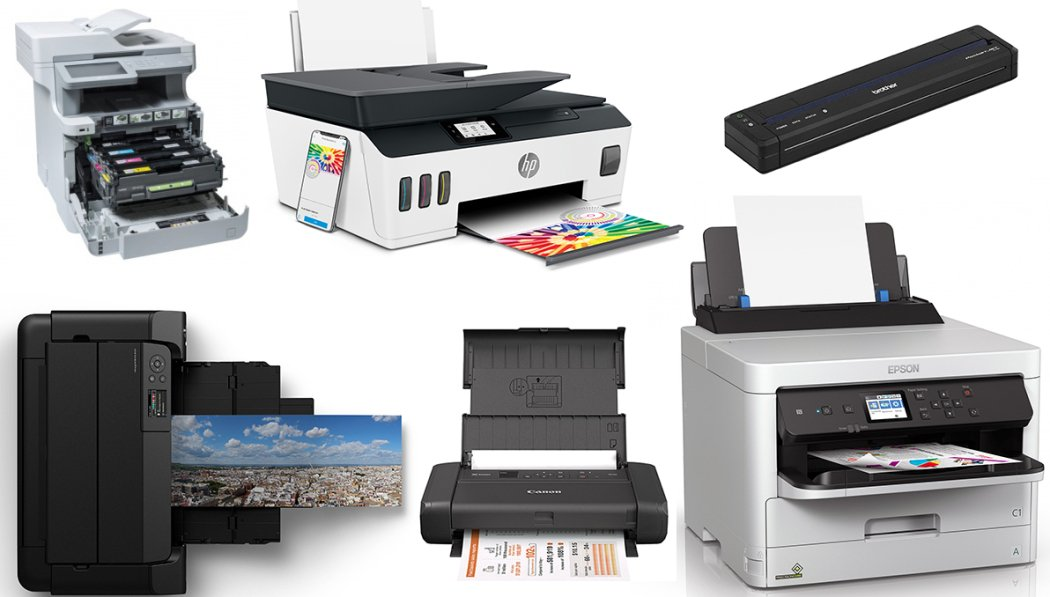printer: (676, 218, 1041, 587), (257, 30, 678, 258), (12, 303, 333, 597), (422, 311, 677, 580)
